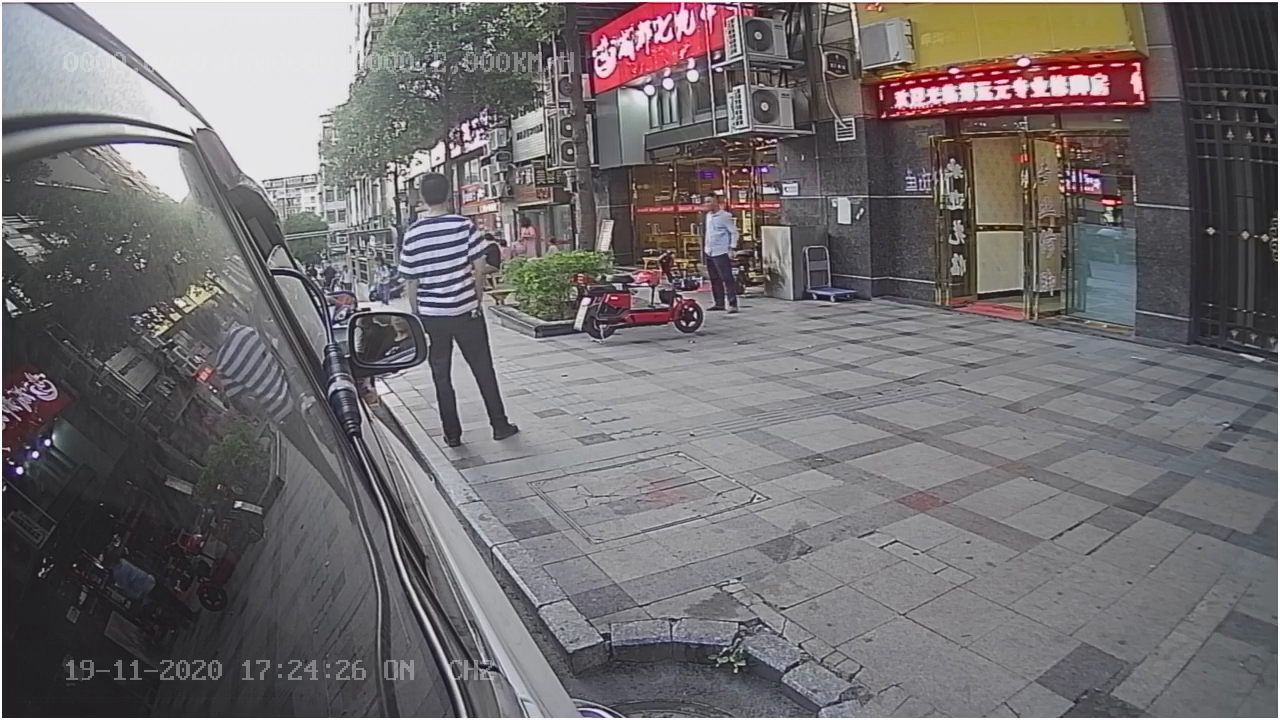person: (410, 170, 528, 446)
